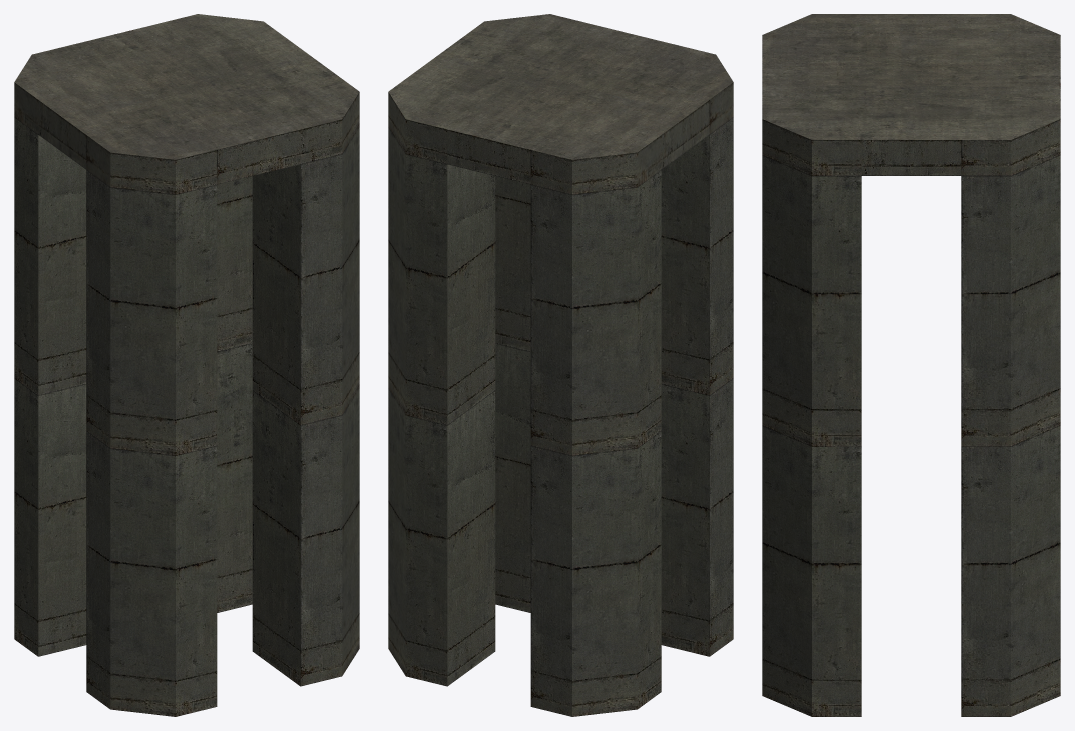
Rendered from platform_mx_1.glb.
3 renders of one model, left to right at view 1: azimuth 30°, elevation 25°; view 2: azimuth 150°, elevation 25°; view 3: azimuth 270°, elevation 25°, orthographic. The views are drawn at different scales.
Parts seen in each view (by area): view 1: platform_mx_1; view 2: platform_mx_1; view 3: platform_mx_1.
Part boxes in pixels (x1=…): platform_mx_1: x1=14, y1=14, x2=359, y2=716; platform_mx_1: x1=388, y1=14, x2=733, y2=716; platform_mx_1: x1=762, y1=14, x2=1060, y2=716.
Bounding box in the file's own units: 3 × 6.4 × 3.
Materials: 2 (2 with a texture image).
